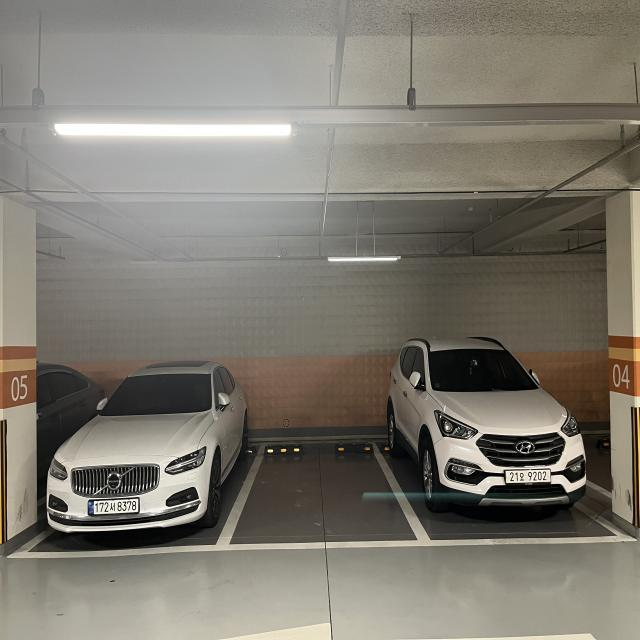empty: (247, 437, 390, 553)
occupied: (385, 325, 618, 556), (40, 354, 236, 560)
